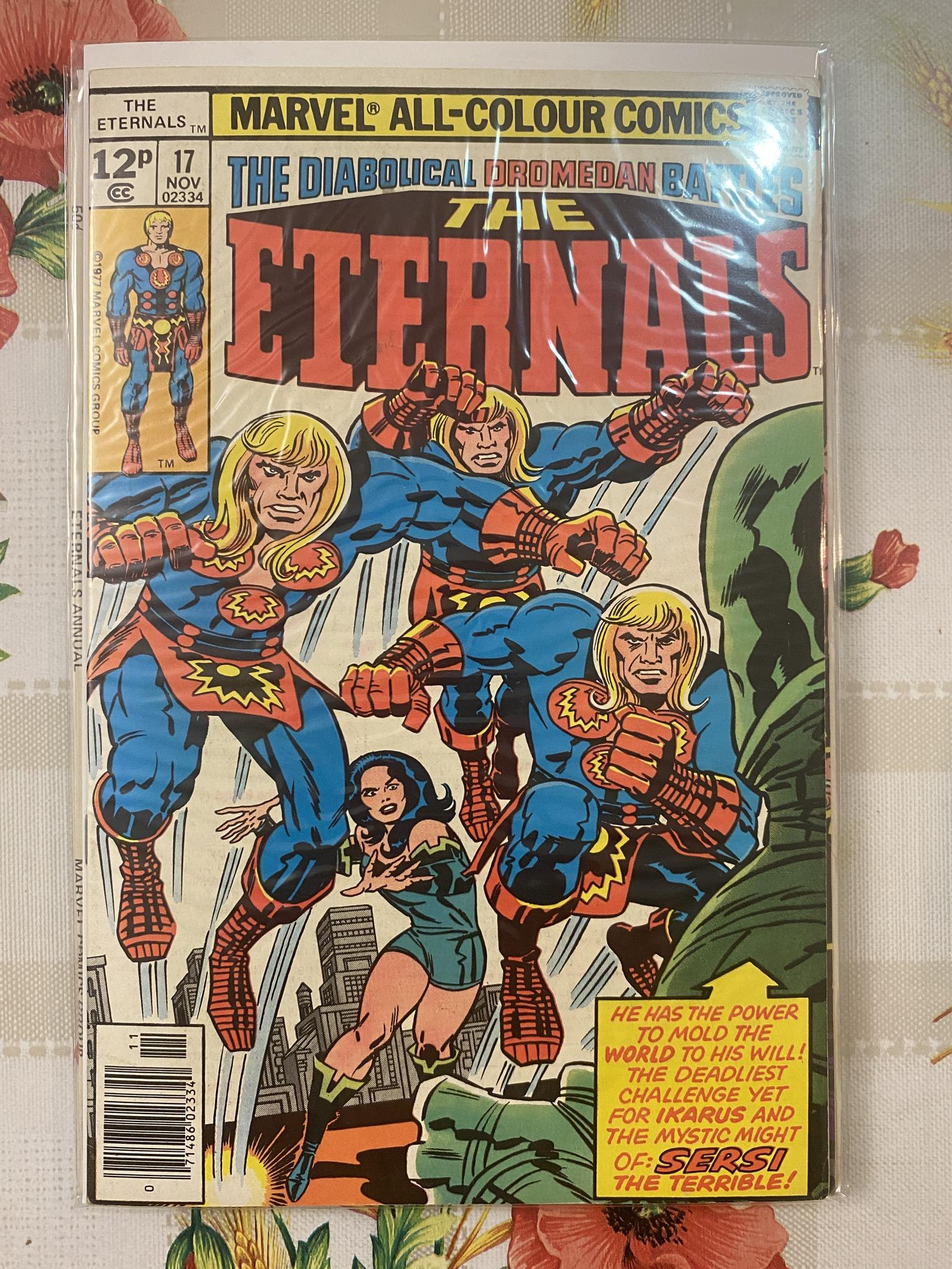comic: (71, 42, 830, 1205)
